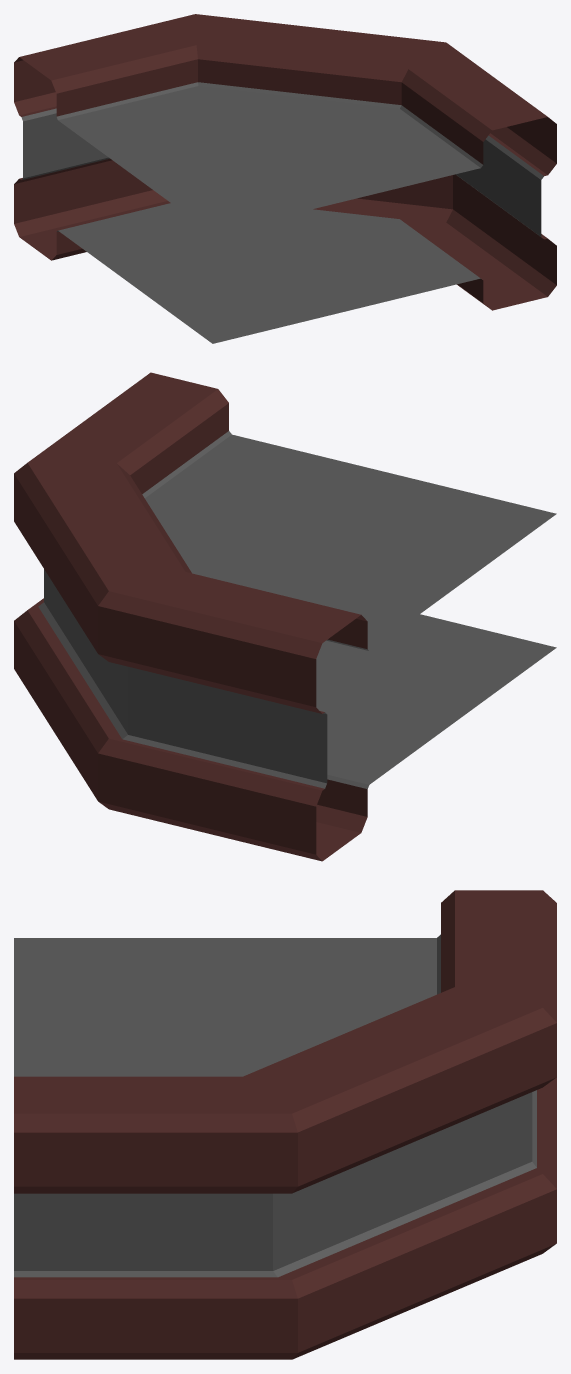
File: tfPlatform_Corner.fbx
3 views of the same model, one above another, from view 1: azimuth 30°, elevation 25°; view 2: azimuth 150°, elevation 25°; view 3: azimuth 270°, elevation 25° (orthographic). The views are drawn at different scales.
Parts seen in each view (by area): view 1: polySurface38; view 2: polySurface38; view 3: polySurface38.
Part boxes in pixels (x1,y1,x2,y2): polySurface38: (14, 14, 556, 343); polySurface38: (14, 372, 556, 861); polySurface38: (14, 890, 556, 1359).
Size of the model in its own units: 200 by 100 by 200.
